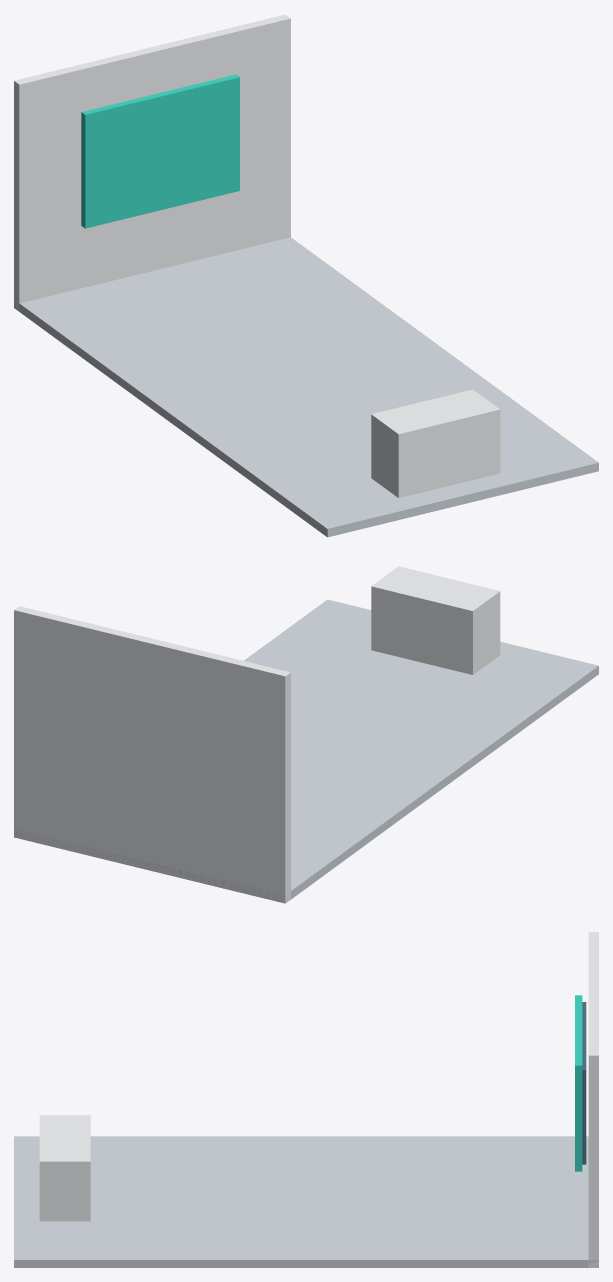
3 renders of one model, top to bottom at view 1: azimuth 30°, elevation 25°; view 2: azimuth 150°, elevation 25°; view 3: azimuth 270°, elevation 25°, orthographic. The views are drawn at different scales.
Visible parts, largest first — view 1: Exhibition Booth Concept; view 2: Exhibition Booth Concept; view 3: Exhibition Booth Concept.
Boxes of the visible parts, x1,y1,x2,y2 form: Exhibition Booth Concept: [14, 14, 598, 537]; Exhibition Booth Concept: [14, 566, 598, 903]; Exhibition Booth Concept: [14, 932, 598, 1267].
Size of the model in its own units: 4 by 3.2 by 8.
